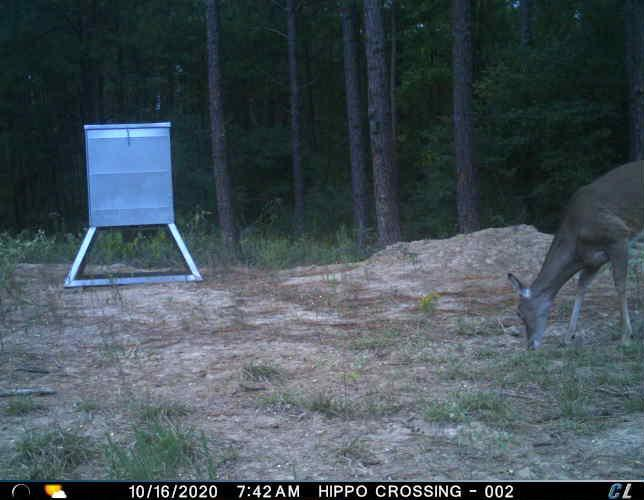Deer: (506, 154, 643, 354)
